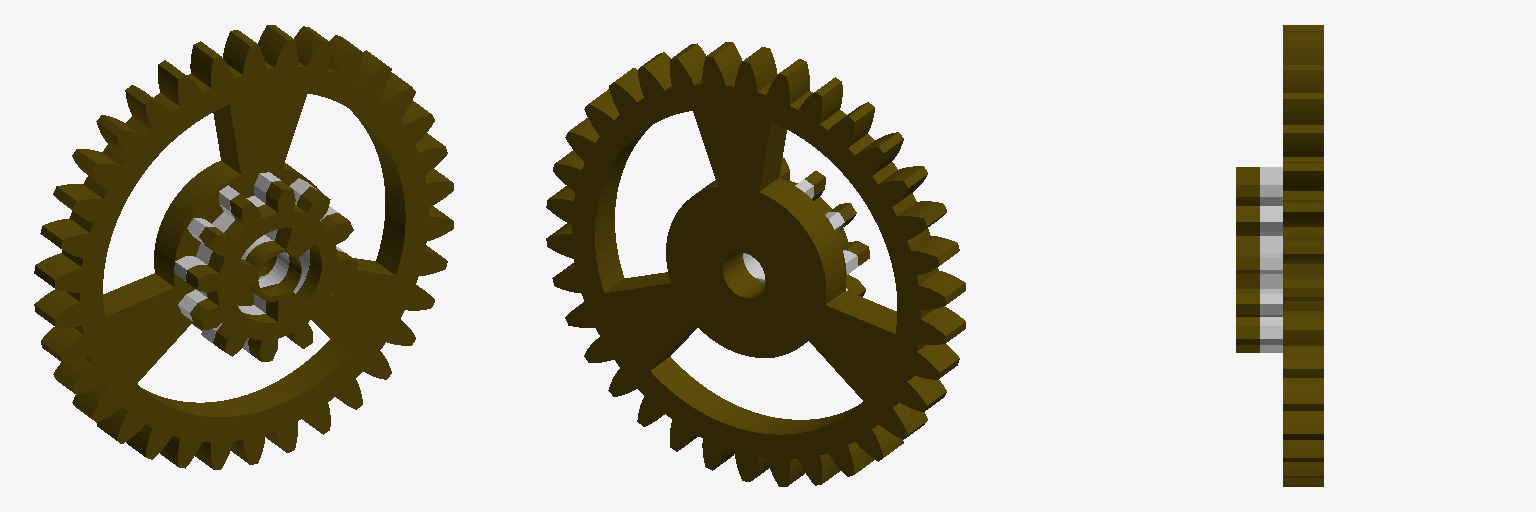
Rendered from gear7.obj.
3 views of the same model, side by side, from view 1: azimuth 30°, elevation 25°; view 2: azimuth 150°, elevation 25°; view 3: azimuth 270°, elevation 25° (orthographic).
Visible parts, largest first — view 1: Gearing.009_Gearing.011, Cogwheels-Driveunit.000_Cogwheels-Driveunit.005, Cogwheels-Driveunit.000_Cogwheels-Driveunit.000; view 2: Gearing.009_Gearing.011, Cogwheels-Driveunit.000_Cogwheels-Driveunit.005, Cogwheels-Driveunit.000_Cogwheels-Driveunit.000; view 3: Gearing.009_Gearing.011, Cogwheels-Driveunit.000_Cogwheels-Driveunit.005, Cogwheels-Driveunit.000_Cogwheels-Driveunit.000.
Part boxes in pixels (x1,y1,x2,y2): Gearing.009_Gearing.011: (34, 25, 453, 469); Cogwheels-Driveunit.000_Cogwheels-Driveunit.005: (186, 181, 357, 361); Cogwheels-Driveunit.000_Cogwheels-Driveunit.000: (174, 172, 344, 352); Gearing.009_Gearing.011: (546, 42, 965, 486); Cogwheels-Driveunit.000_Cogwheels-Driveunit.005: (779, 158, 869, 296); Cogwheels-Driveunit.000_Cogwheels-Driveunit.000: (743, 179, 858, 290); Gearing.009_Gearing.011: (1283, 25, 1323, 486); Cogwheels-Driveunit.000_Cogwheels-Driveunit.005: (1236, 167, 1259, 352); Cogwheels-Driveunit.000_Cogwheels-Driveunit.000: (1260, 167, 1282, 352).
Size of the model in its own units: 1.8 by 1.81 by 0.3414.